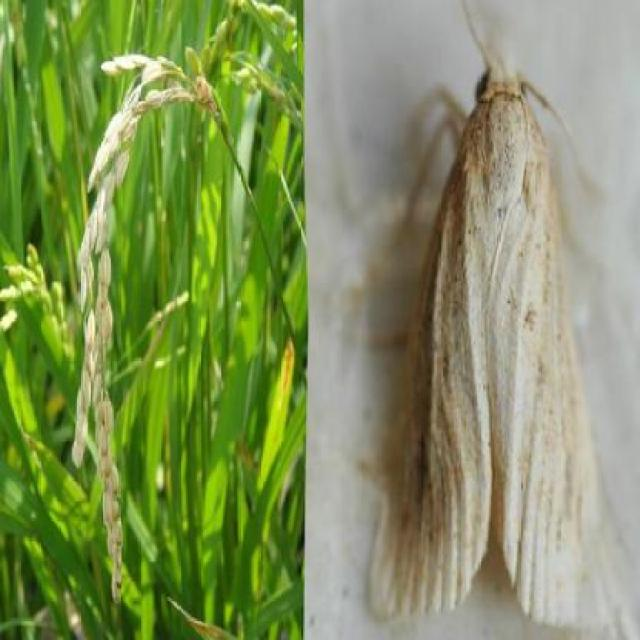stem-borer: (368, 33, 608, 629)
